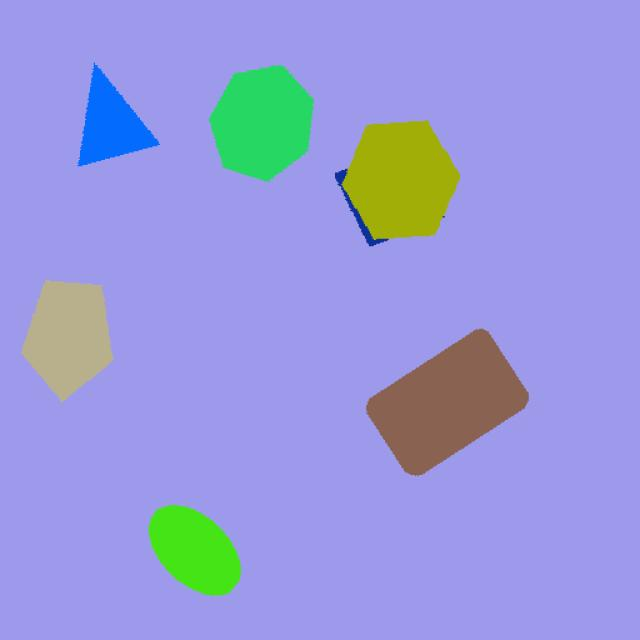Heptagon: (195, 54, 324, 203)
Hexagon: (348, 115, 466, 243)
Oval: (132, 479, 269, 606)
Pentagon: (17, 272, 129, 425)
Rectangle: (329, 308, 570, 486)
Triangle: (68, 46, 171, 189)
